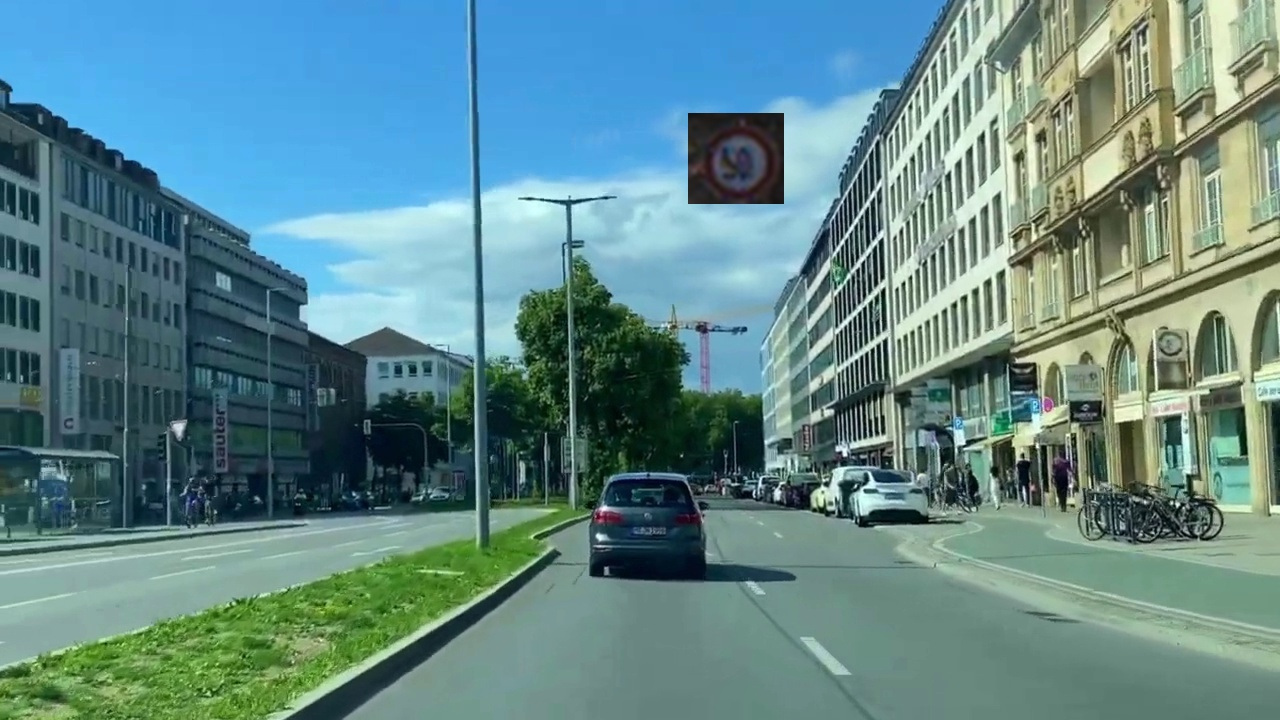Speed 50: (688, 113, 784, 204)
